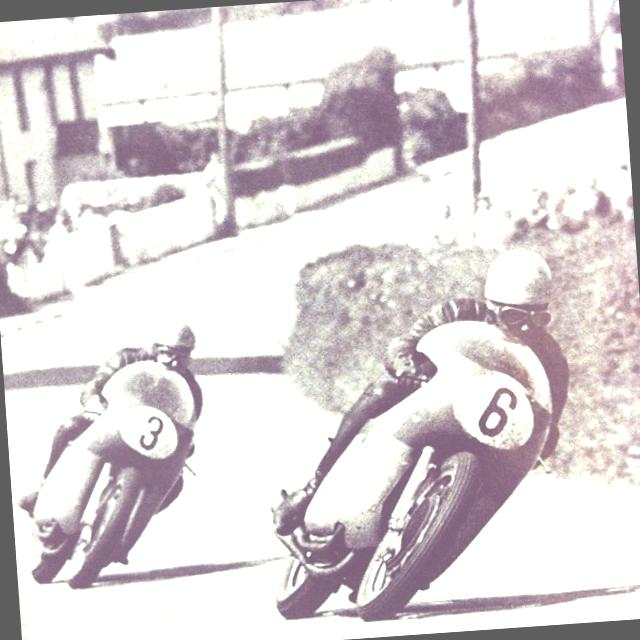Vehicle: (252, 308, 573, 626), (11, 352, 211, 595)
